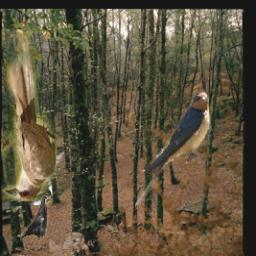Crow: (20, 196, 51, 242)
Cuckoo: (1, 29, 57, 201)
Swallow: (135, 90, 212, 207)
